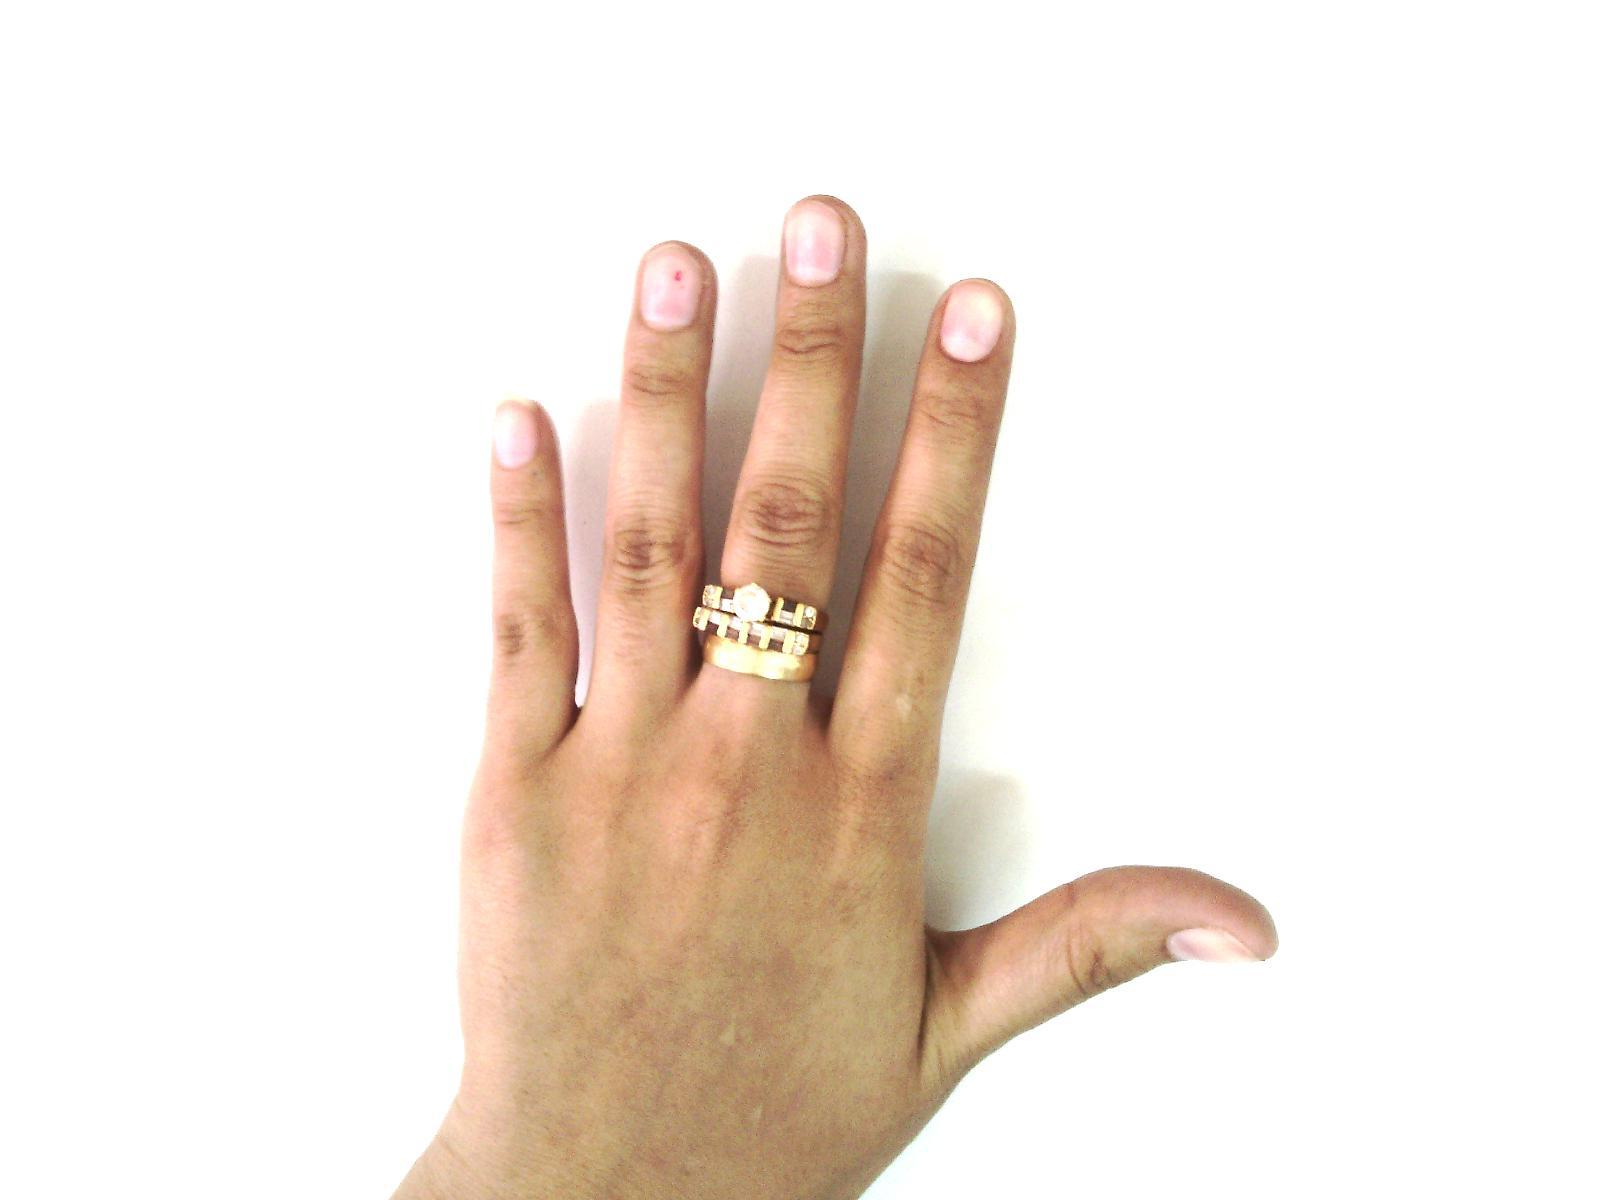hand: (457, 184, 1285, 1200)
